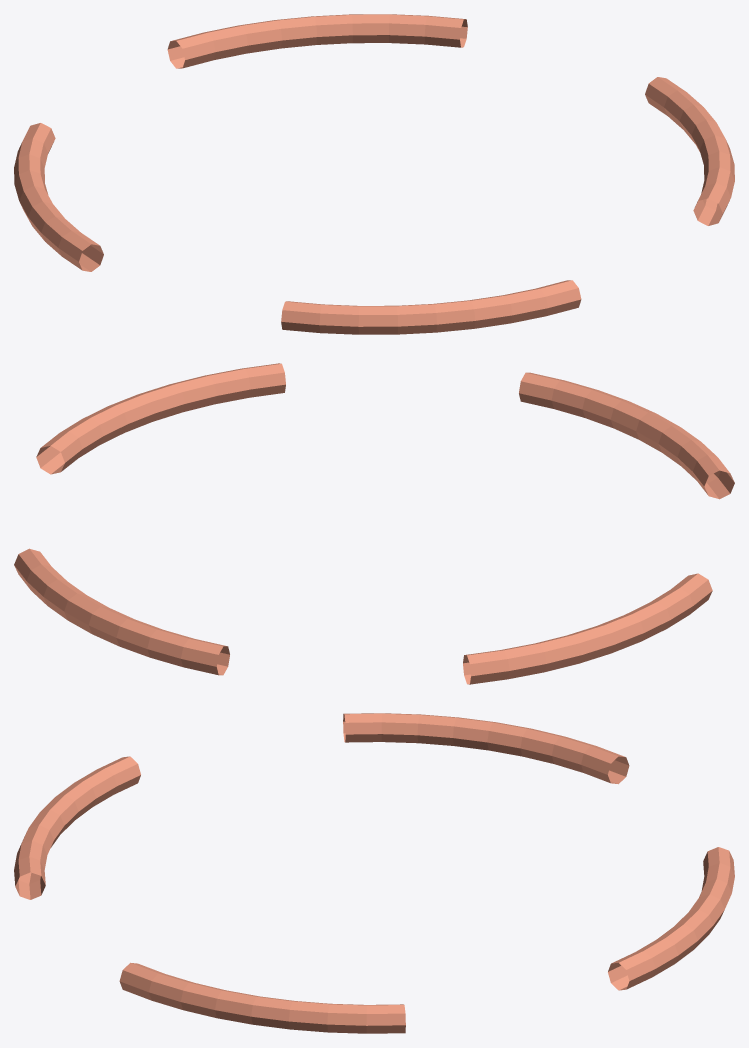
The model's file is SM_S05_Ring_Target.fbx.
The picture shows the model from 3 angles, top to bottom: view 1: azimuth 30°, elevation 25°; view 2: azimuth 150°, elevation 25°; view 3: azimuth 270°, elevation 25°; orthographic projection. The views are drawn at different scales.
Parts seen in each view (by area): view 1: SM_S05_Ring_Target; view 2: SM_S05_Ring_Target; view 3: SM_S05_Ring_Target.
Part boxes in pixels (left/top/right/bottom): SM_S05_Ring_Target: left=14, top=14, right=734, bottom=334; SM_S05_Ring_Target: left=14, top=363, right=734, bottom=684; SM_S05_Ring_Target: left=14, top=713, right=734, bottom=1033.
Size of the model in its own units: 46.99 by 46.99 by 2.
